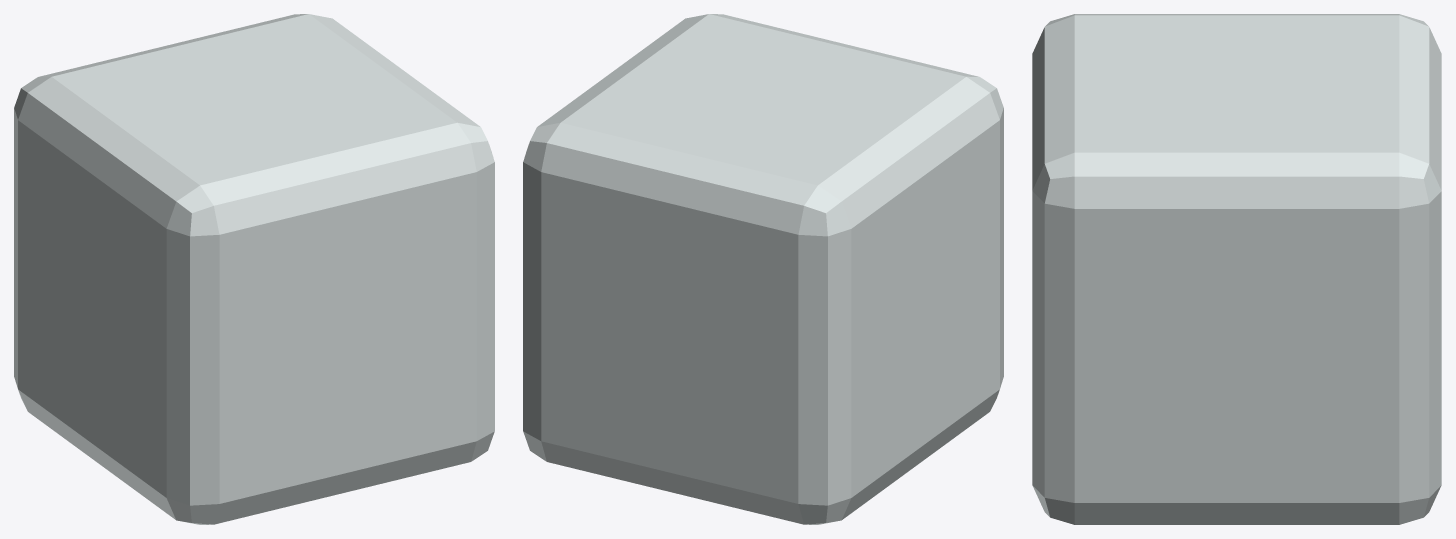
Rendered from cubeZeroLight.glb.
The picture shows the model from 3 angles, left to right: view 1: azimuth 30°, elevation 25°; view 2: azimuth 150°, elevation 25°; view 3: azimuth 270°, elevation 25°; orthographic projection. The views are drawn at different scales.
Parts seen in each view (by area): view 1: Cube; view 2: Cube; view 3: Cube.
Boxes of the visible parts, x1,y1,x2,y2 form: Cube: (14,14,494,524); Cube: (523,14,1003,524); Cube: (1032,14,1441,524).
Size of the model in its own units: 2 by 2 by 2.
1 material, 1 textured.
